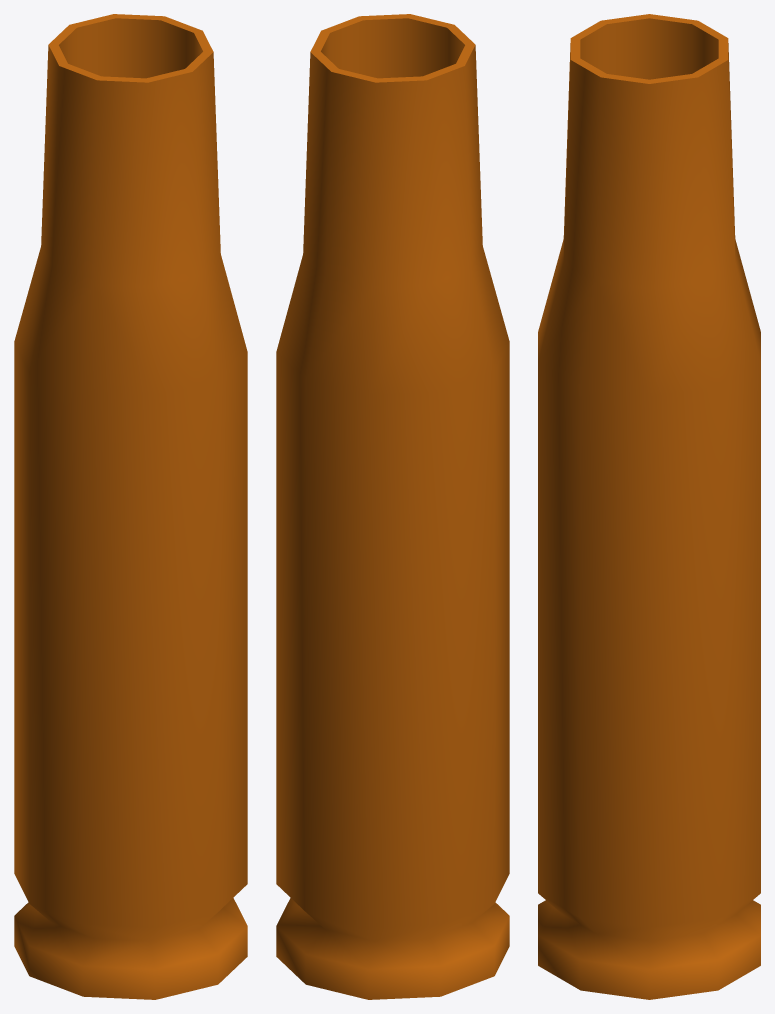
Rendered from SM_rifleshell.FBX.
3 views of the same model, side by side, from view 1: azimuth 30°, elevation 25°; view 2: azimuth 150°, elevation 25°; view 3: azimuth 270°, elevation 25° (orthographic).
Visible parts, largest first — view 1: SM_rifleshell; view 2: SM_rifleshell; view 3: SM_rifleshell.
Part boxes in pixels (x1,y1,x2,y2): SM_rifleshell: (14,14,247,999); SM_rifleshell: (276,14,509,999); SM_rifleshell: (538,14,760,999).
Size of the model in its own units: 1.06 by 1.01 by 4.49.
